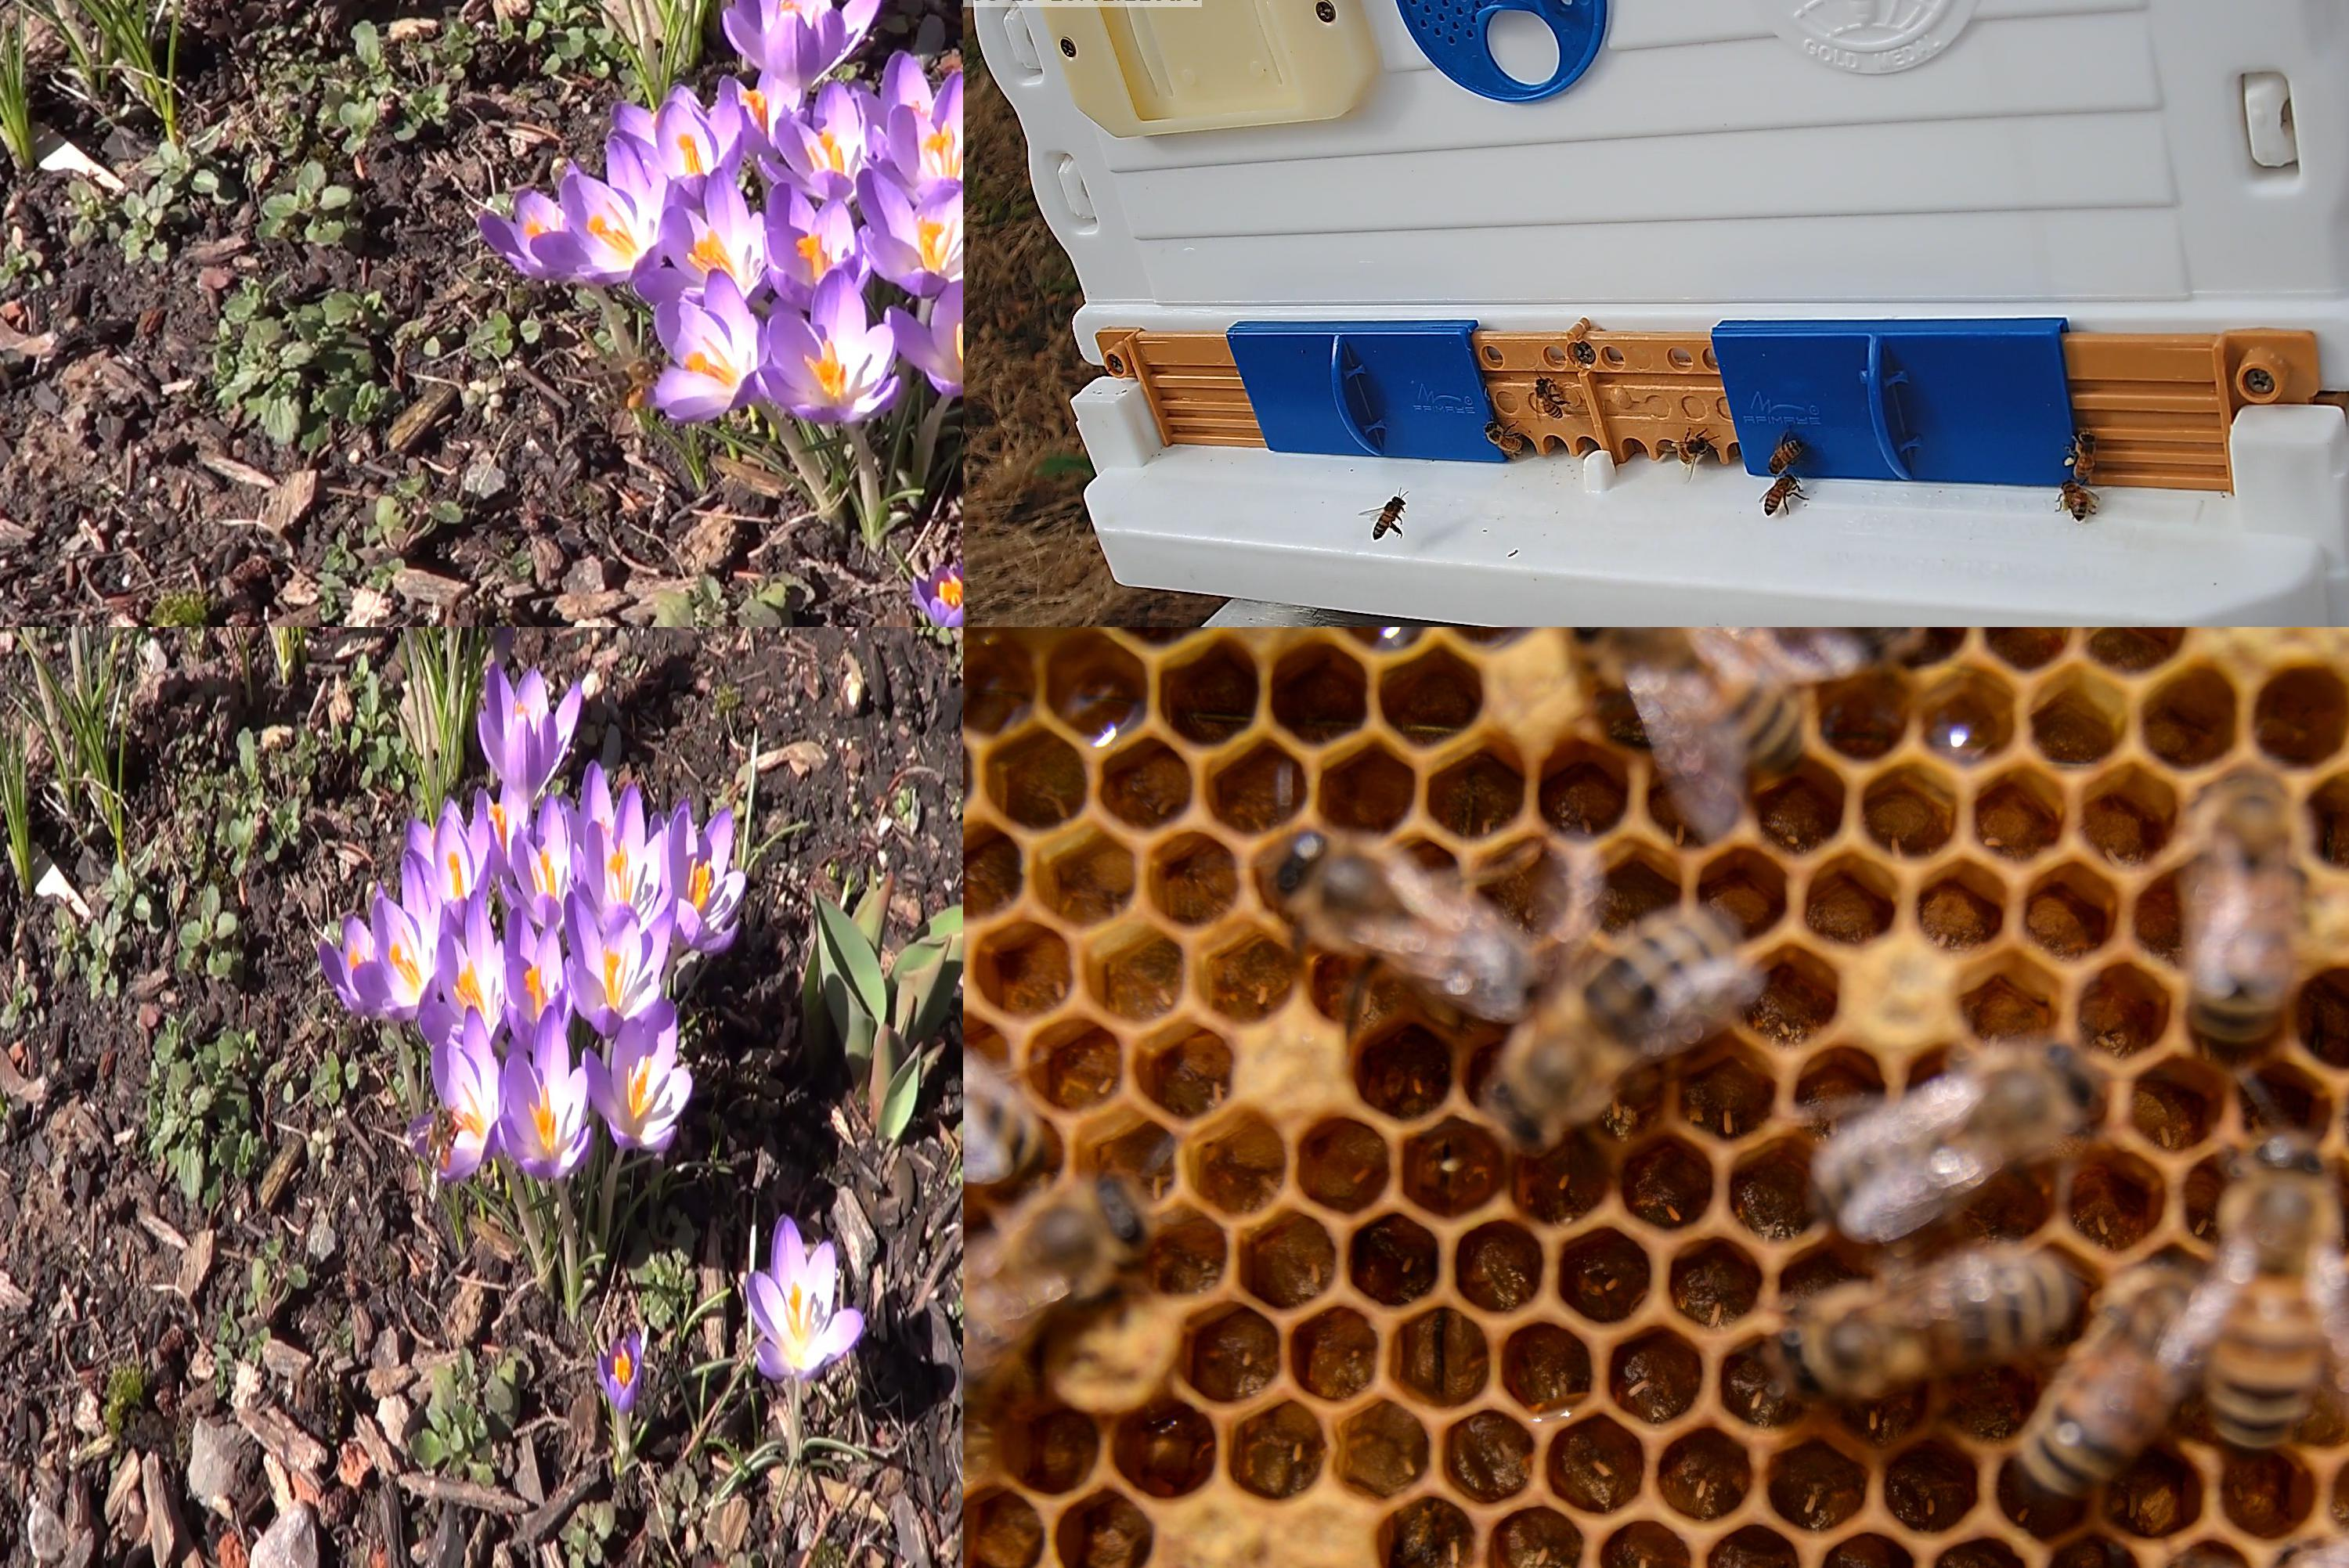bee: (1497, 905, 1747, 1136), (1831, 1050, 2095, 1220), (963, 1178, 1143, 1421), (1787, 1244, 2079, 1388), (2023, 1276, 2197, 1500), (1280, 837, 1516, 994), (2212, 1139, 2330, 1454), (1572, 626, 1801, 765), (2191, 777, 2295, 1043), (963, 999, 1047, 1174), (1372, 495, 1406, 539), (1764, 476, 1798, 514), (1484, 420, 1519, 453), (1768, 437, 1801, 472), (1533, 378, 1561, 416), (1677, 437, 1708, 462)
pollenbee: (425, 1106, 453, 1178), (2065, 431, 2099, 478), (2058, 481, 2095, 521)
